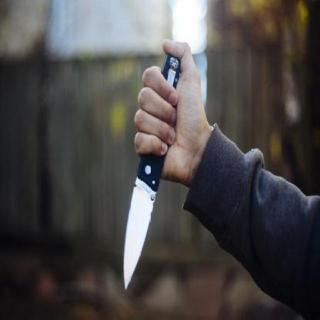knife: (116, 88, 183, 296)
